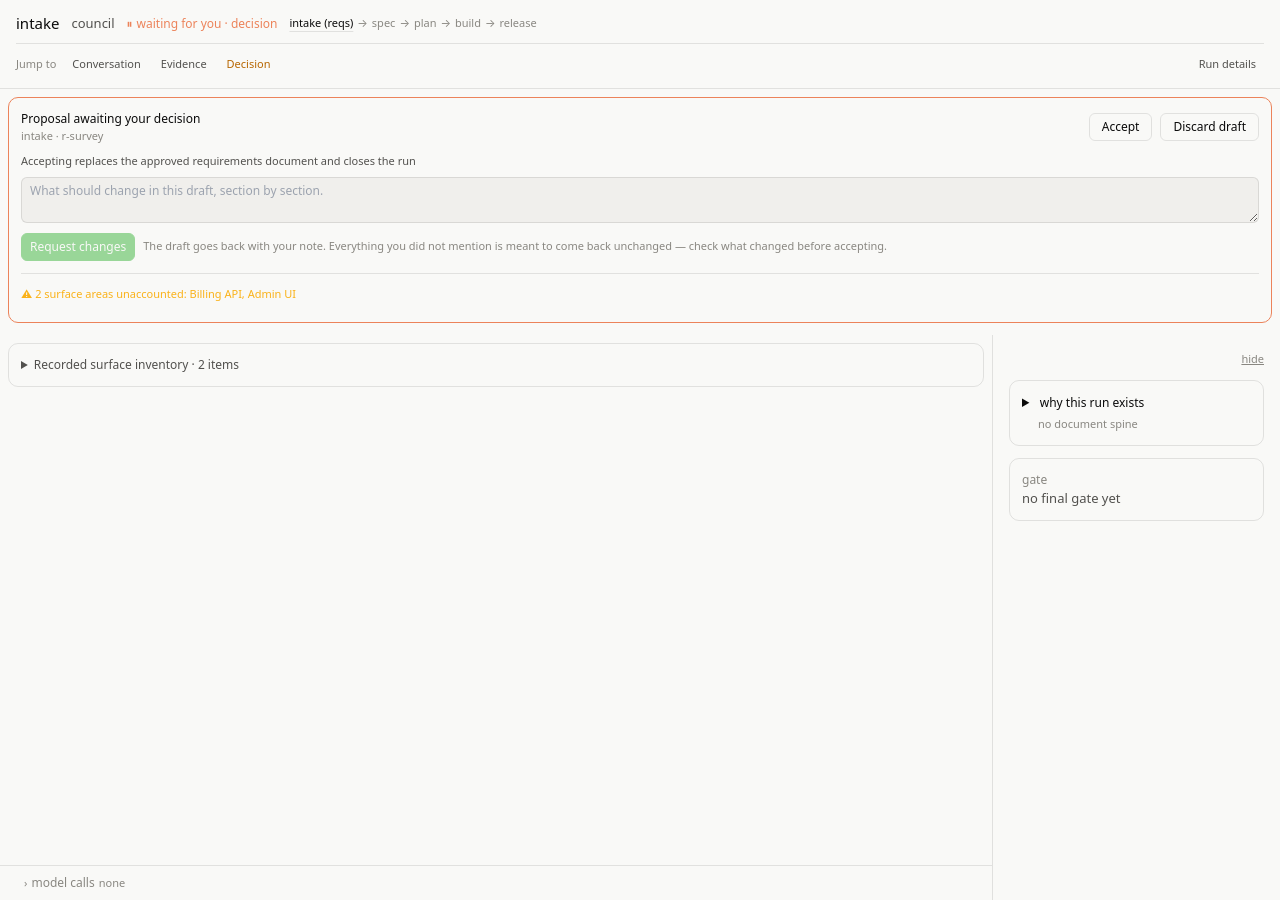
adoption survey coverage on decision surfaces › keeps the recorded inventory folded until opened, then shows every kind and evidence path
Click the heading "Recorded surface inventory · 2 items" at (136, 364), box top-left (34, 356), bottom-right (239, 373)
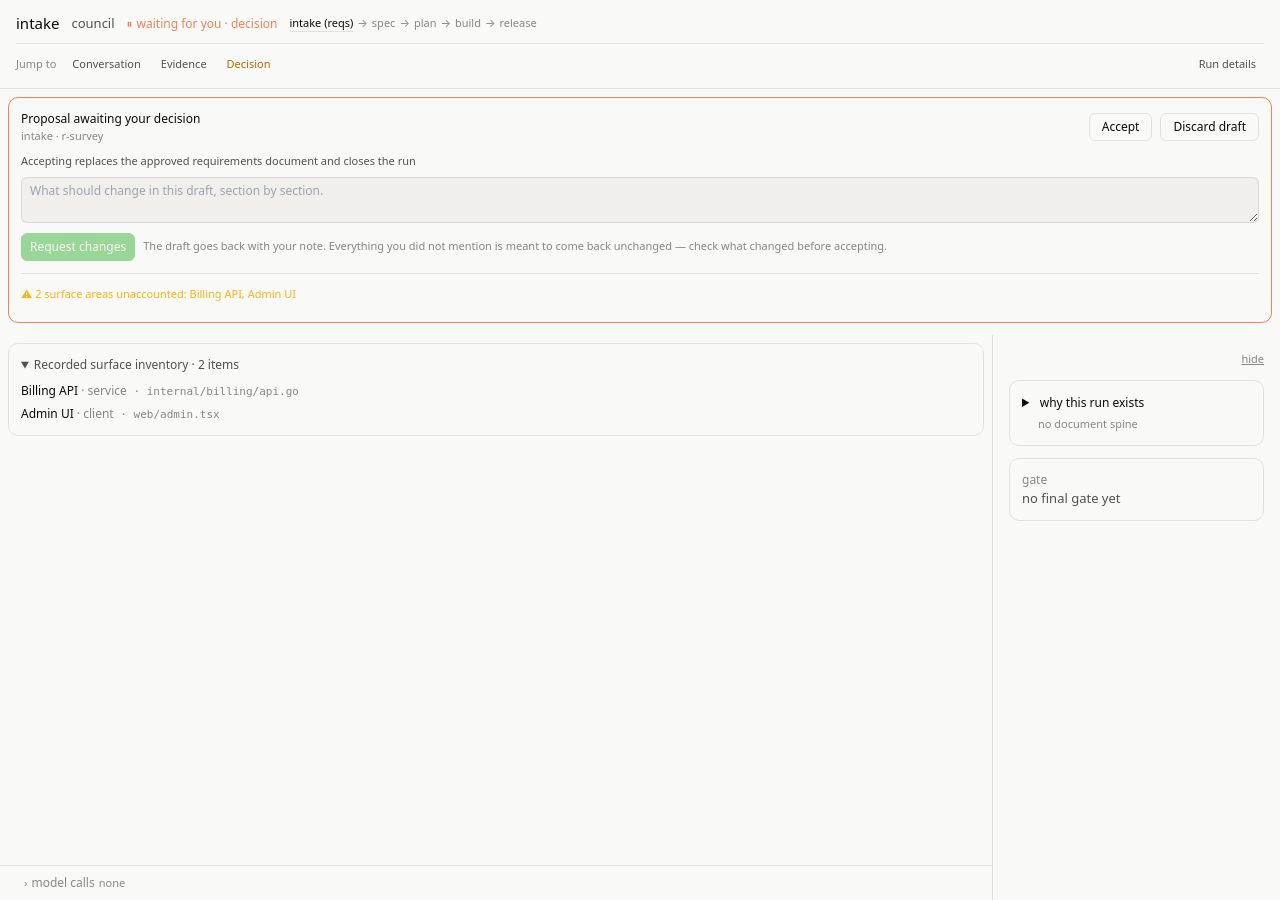
Check: the element with test id "survey-inventory" shows "Billing API", box top-left (21, 382), bottom-right (78, 399)
Check: the element with test id "survey-inventory" shows "service", box top-left (88, 382), bottom-right (127, 399)
Check: the element with test id "survey-inventory" shows "internal/billing/api.go", box top-left (147, 385), bottom-right (299, 398)
